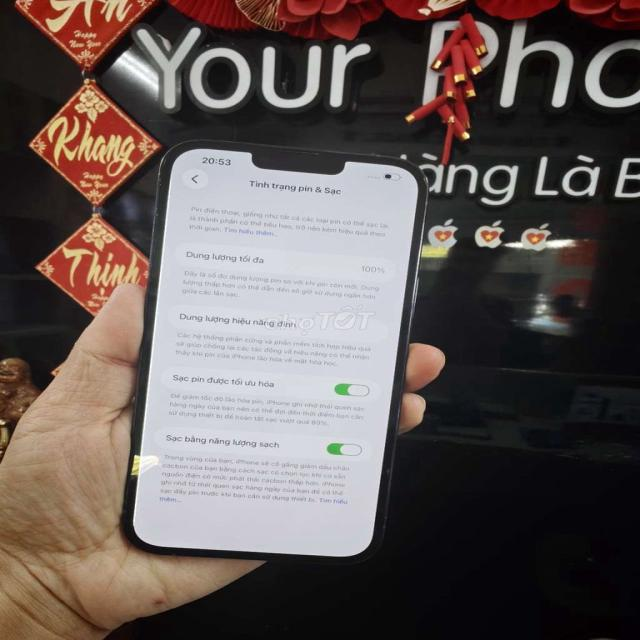scratch: (148, 161, 175, 257)
